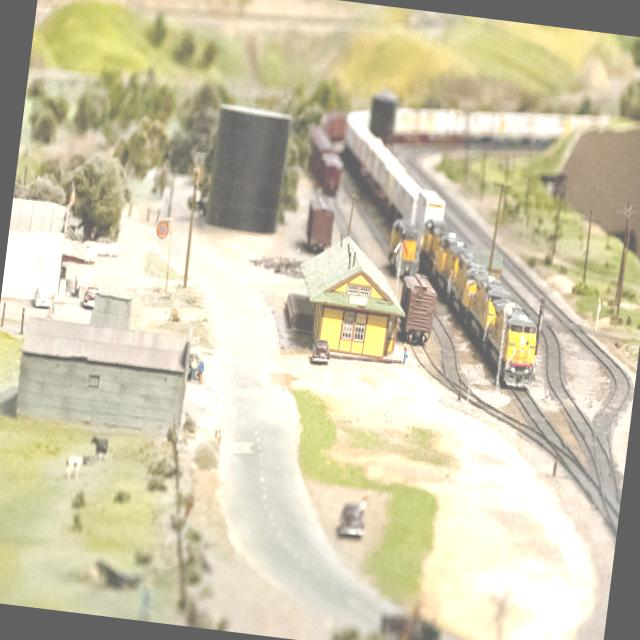Vehicle: (337, 502, 368, 538), (30, 283, 54, 310), (310, 338, 332, 364), (82, 286, 99, 308)
